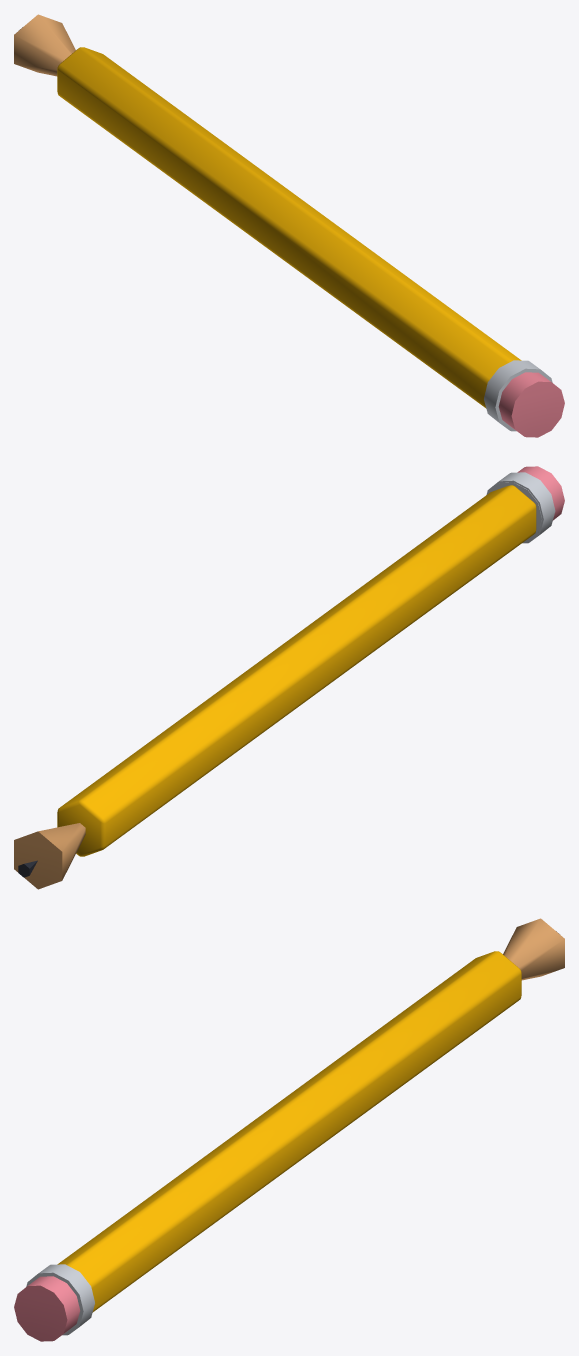
The model's file is prop_pencil_v2.glb.
3 renders of one model, top to bottom at view 1: azimuth 30°, elevation 25°; view 2: azimuth 150°, elevation 25°; view 3: azimuth 330°, elevation 25°, orthographic.
Parts seen in each view (by area): view 1: PencilV2; view 2: PencilV2; view 3: PencilV2.
Boxes of the visible parts, <box> form: PencilV2: <box>14,14,564,437</box>; PencilV2: <box>14,466,564,889</box>; PencilV2: <box>14,918,564,1341</box>.
Size of the model in its own units: 0.54 by 0.54 by 8.
